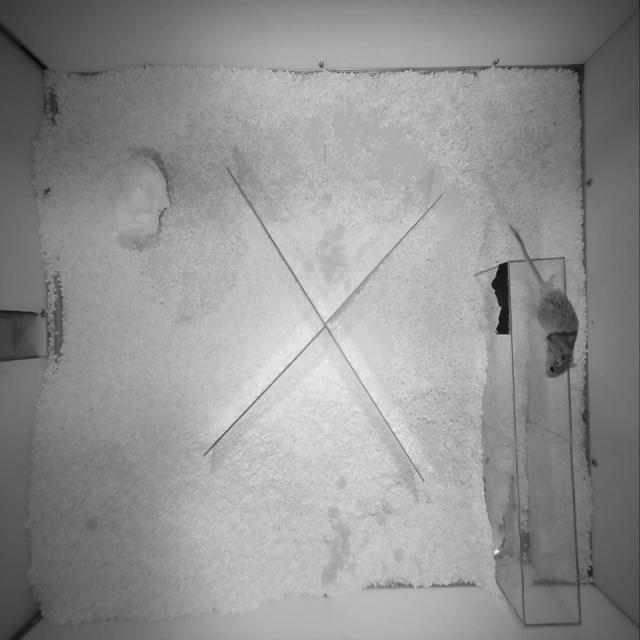adult_front: (509, 225, 579, 377)
